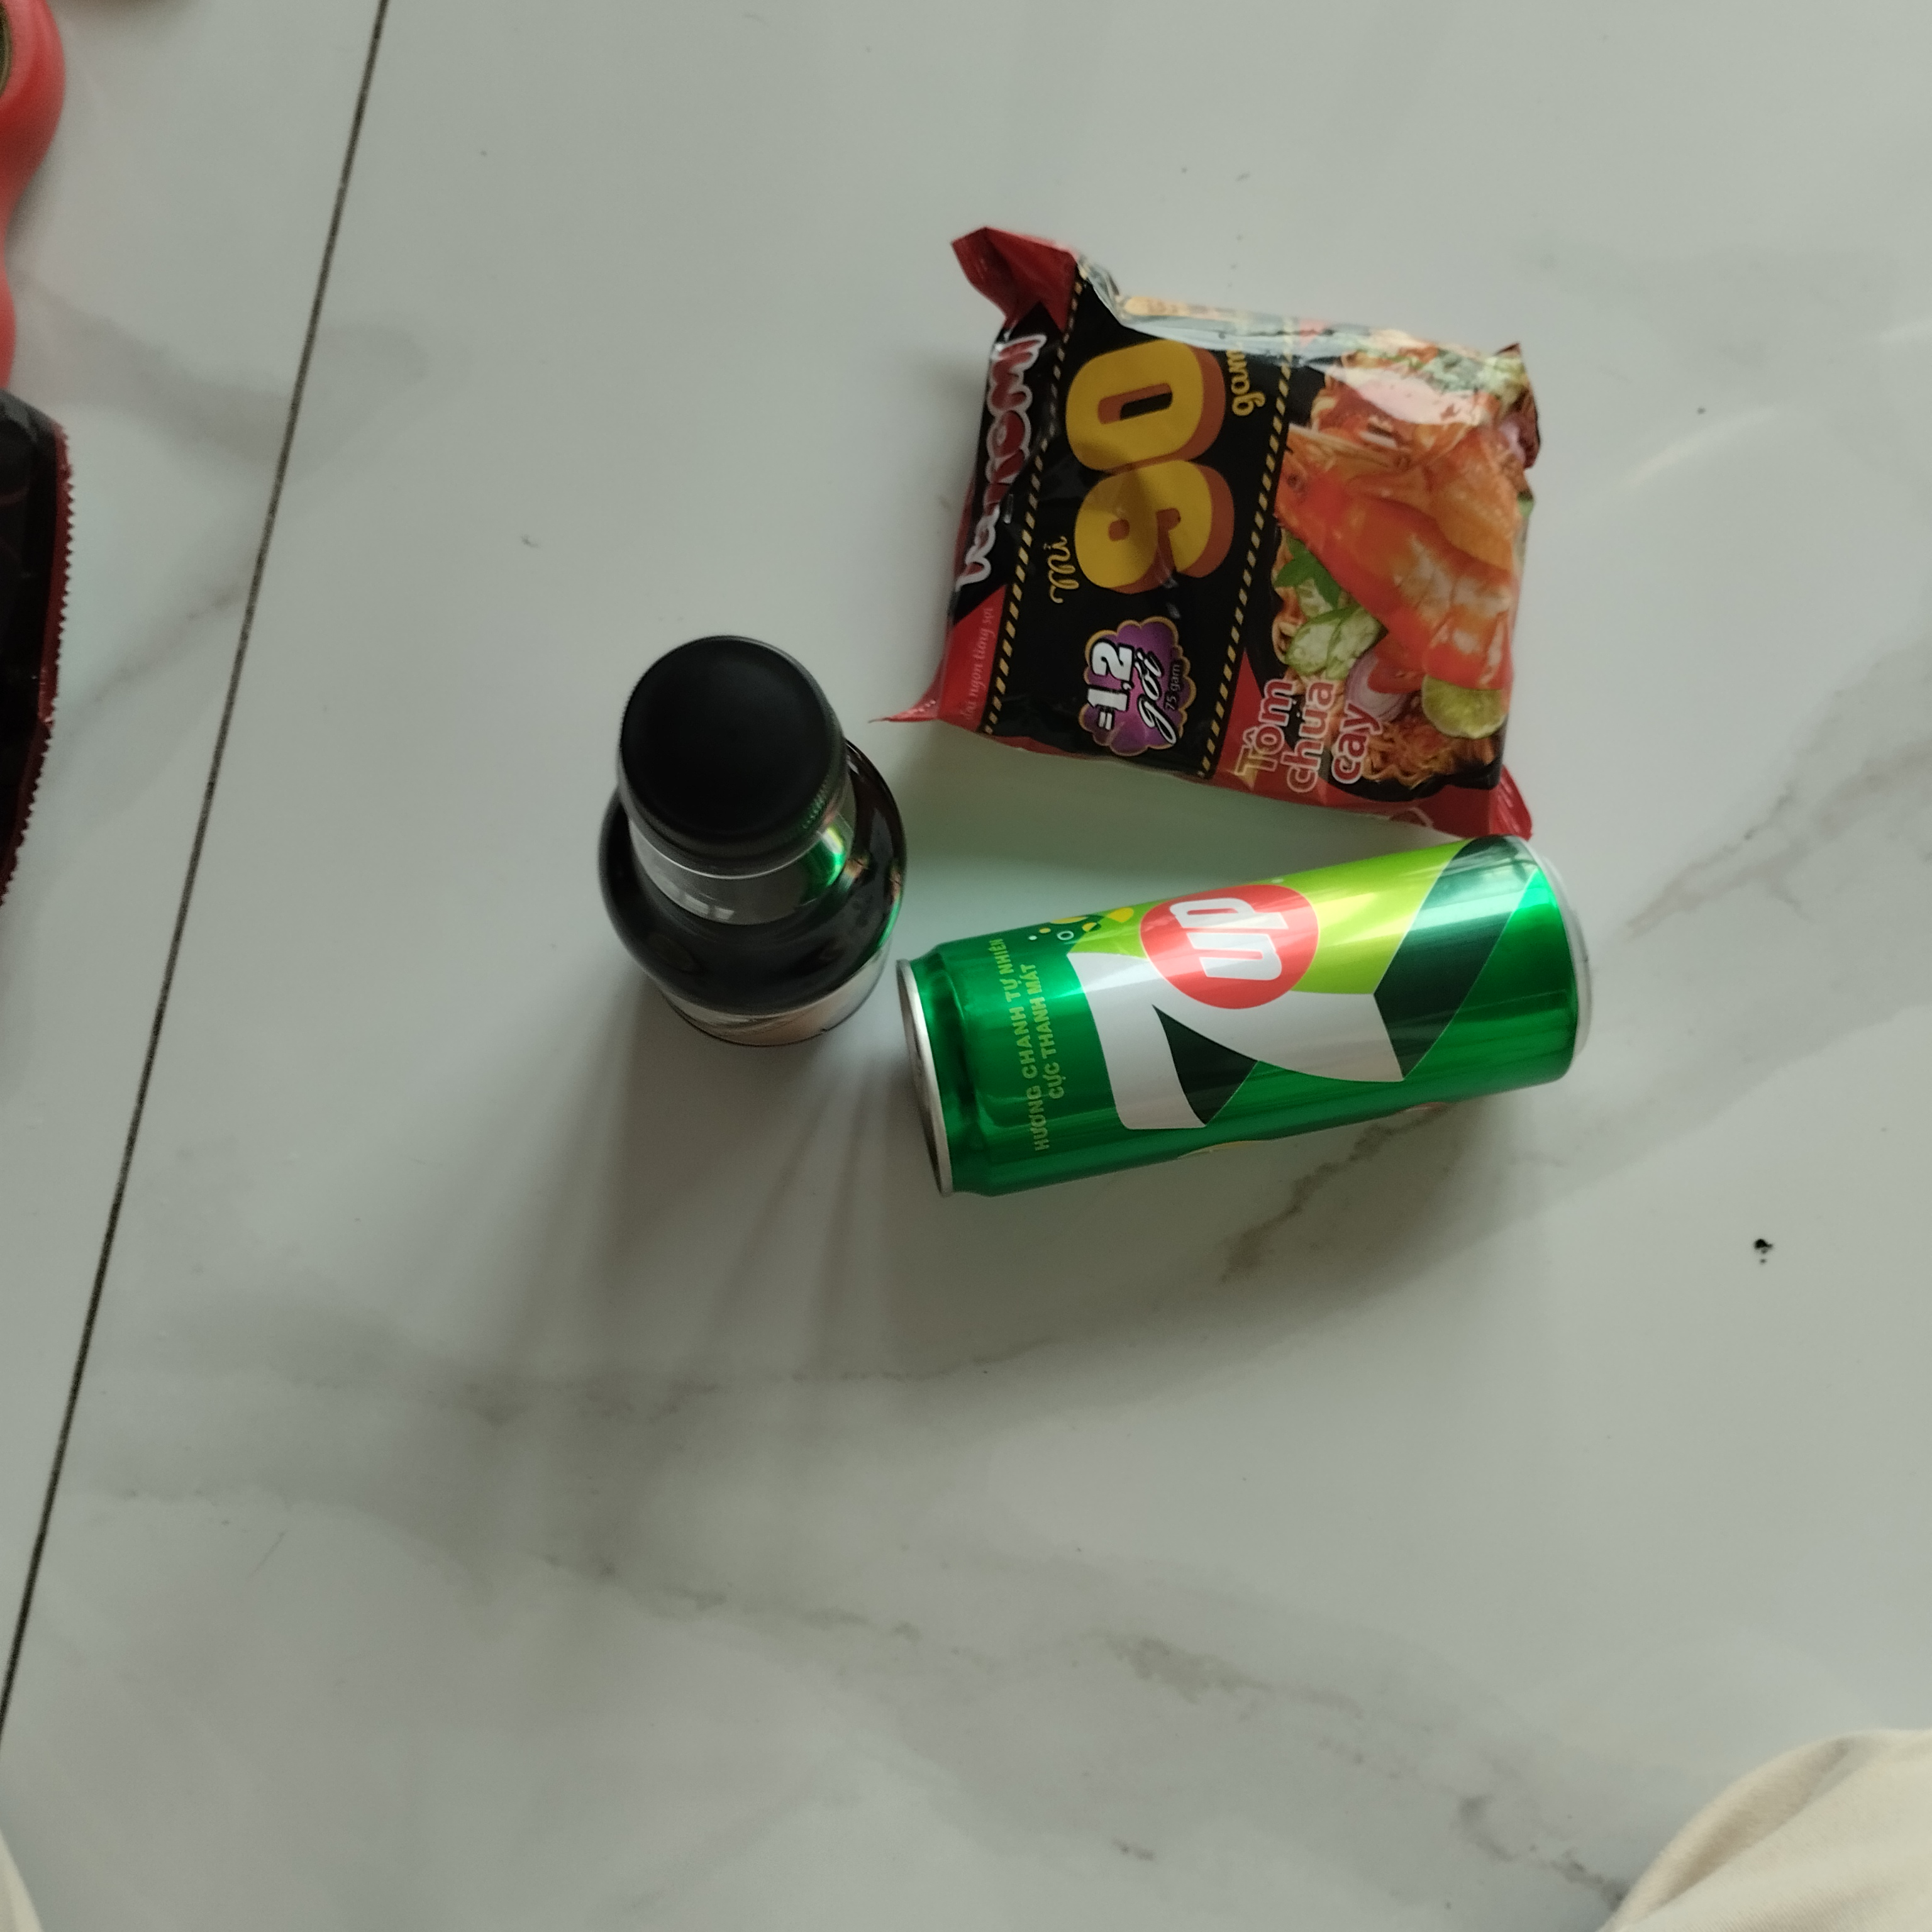247: (577, 633, 906, 1053)
7up: (893, 840, 1592, 1223)
Kokomi: (881, 228, 1568, 849)
